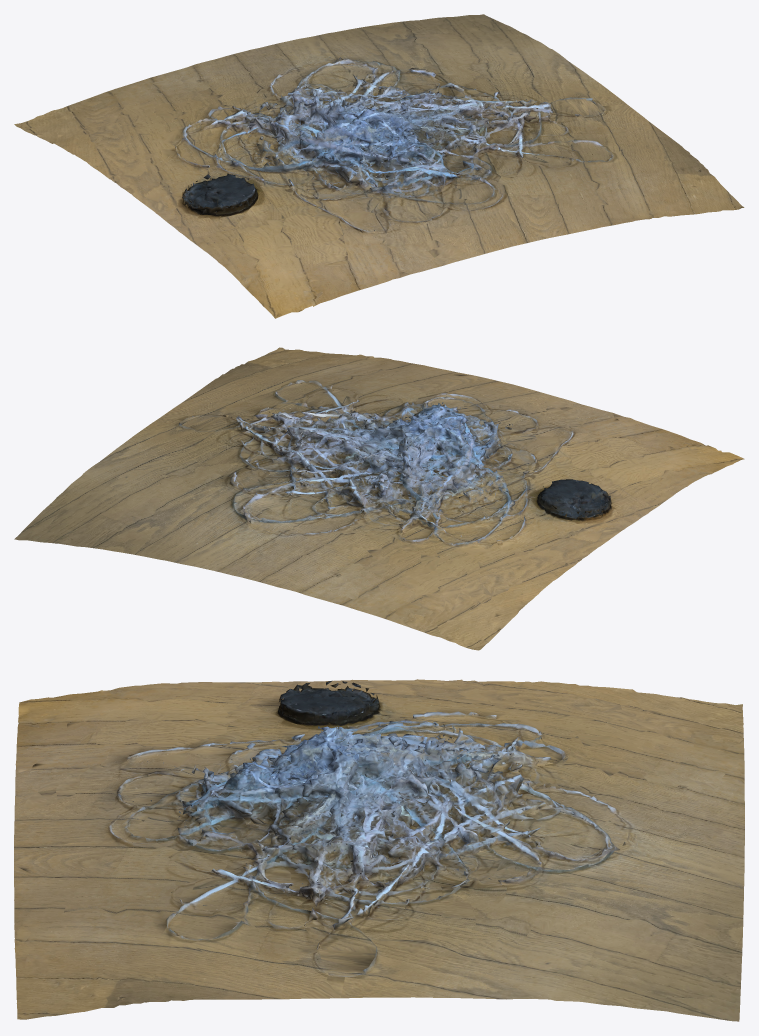
The model's file is after.fbx.
3 views of the same model, one above another, from view 1: azimuth 30°, elevation 25°; view 2: azimuth 150°, elevation 25°; view 3: azimuth 270°, elevation 25° (orthographic). The views are drawn at different scales.
Visible parts, largest first — view 1: gutya; view 2: gutya; view 3: gutya.
Part boxes in pixels (<box>): gutya: <box>14,14,744,318</box>; gutya: <box>14,347,744,650</box>; gutya: <box>14,679,744,1021</box>.
Bounding box in the file's own units: 2267 × 351 × 2222.
